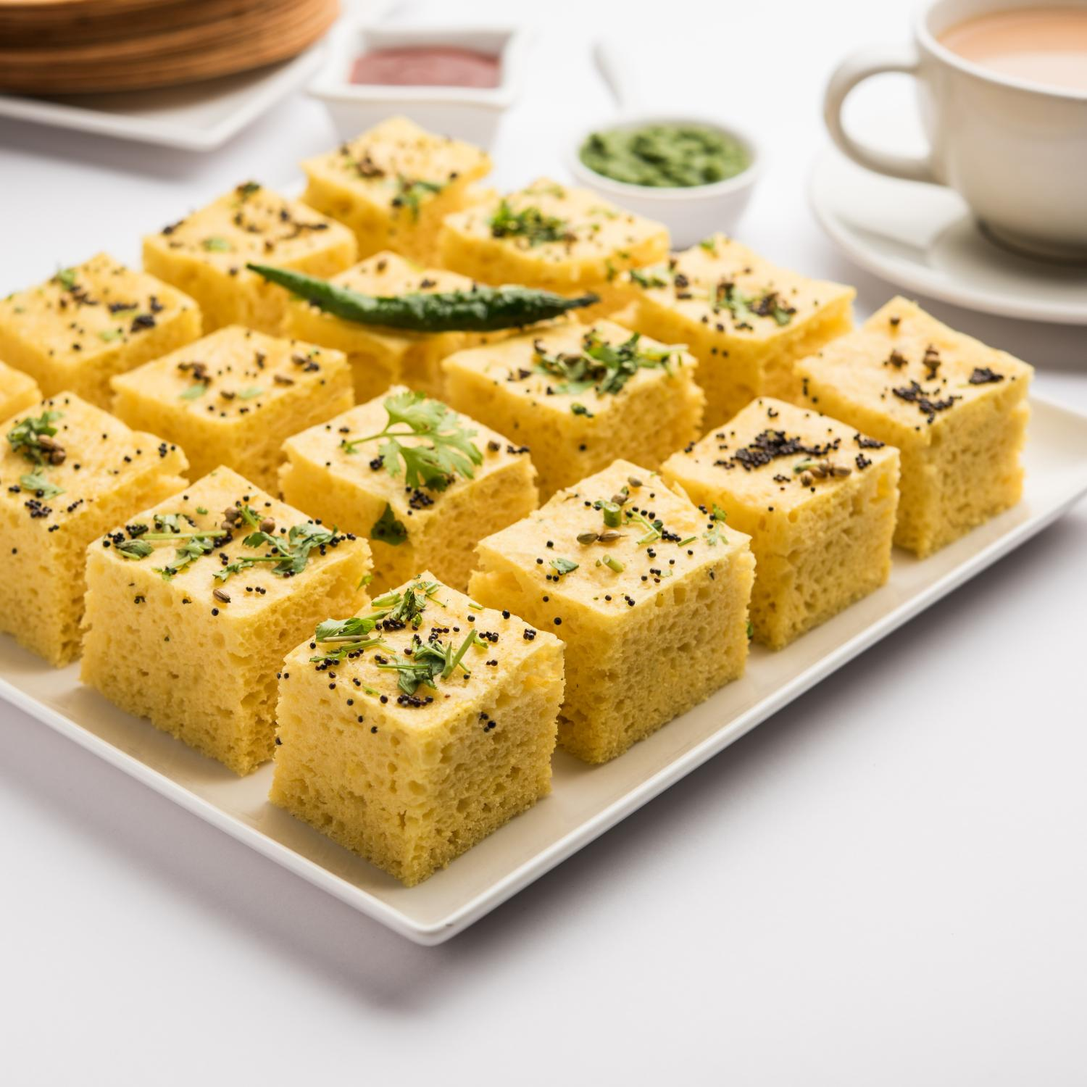yellow dhokla: (2, 253, 1046, 888)
